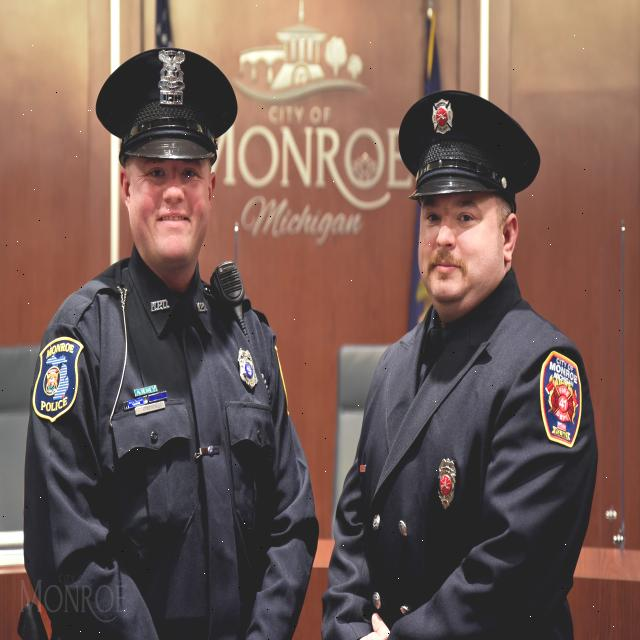police: (20, 37, 315, 640), (322, 78, 610, 640)
